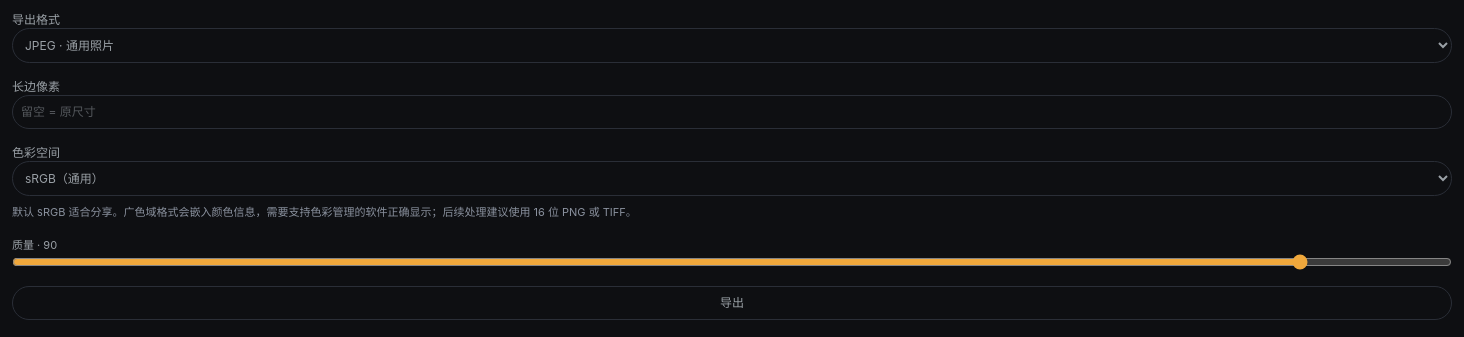
Scenario: selects lossless formats and hides JPEG quality for PNG and TIFF
Expected: the dropdown labelled "导出格式" shows "JPEG · 通用照片", [12,28,1452,63]
Select "Display P3（广色域屏幕）" in the dropdown labelled "色彩空间": (732, 178) [12,161,1452,196]
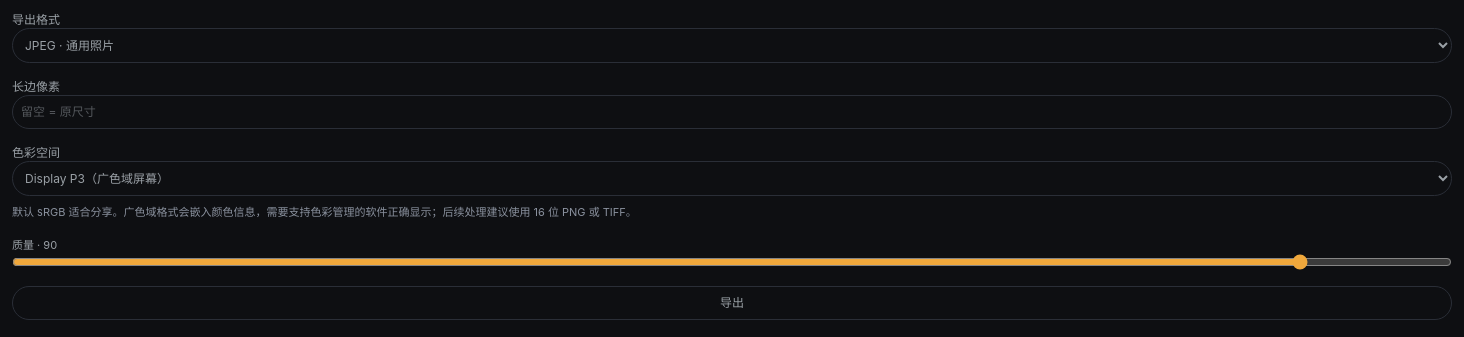
Expected: the slider is shown, [12,254,1452,270]
Select "PNG · 16 位无损" in the dropdown labelled "导出格式": (732, 46) [12,28,1452,63]
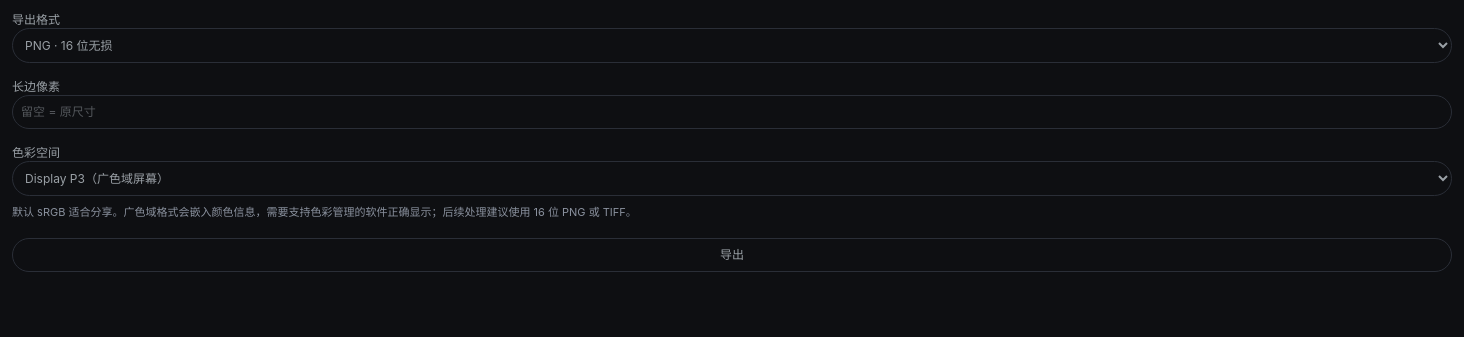
Expected: the slider is gone
Select "TIFF · 16 位无损" in the dropdown labelled "导出格式": (732, 46) [12,28,1452,63]
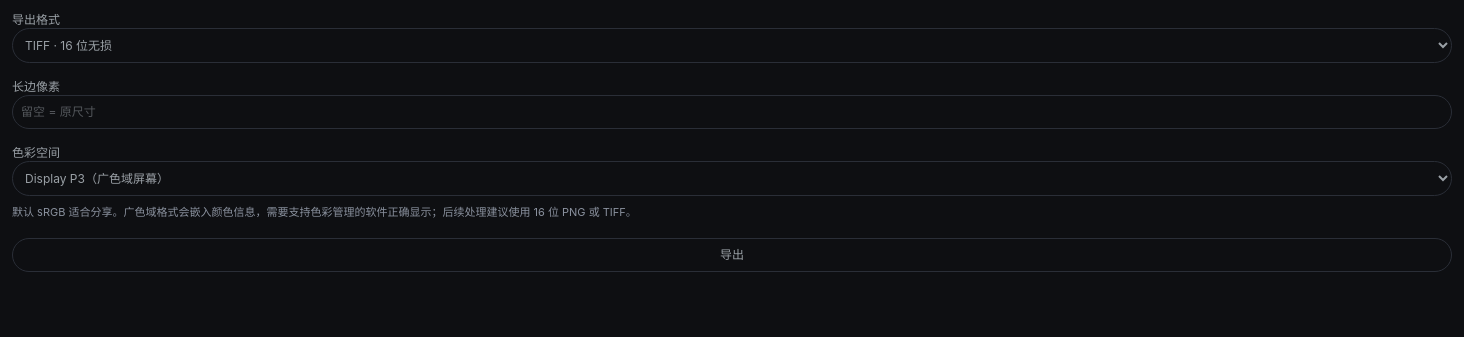
Select "可编辑文档（.pcraft）" in the dropdown labelled "导出格式": (732, 46) [12,28,1452,63]
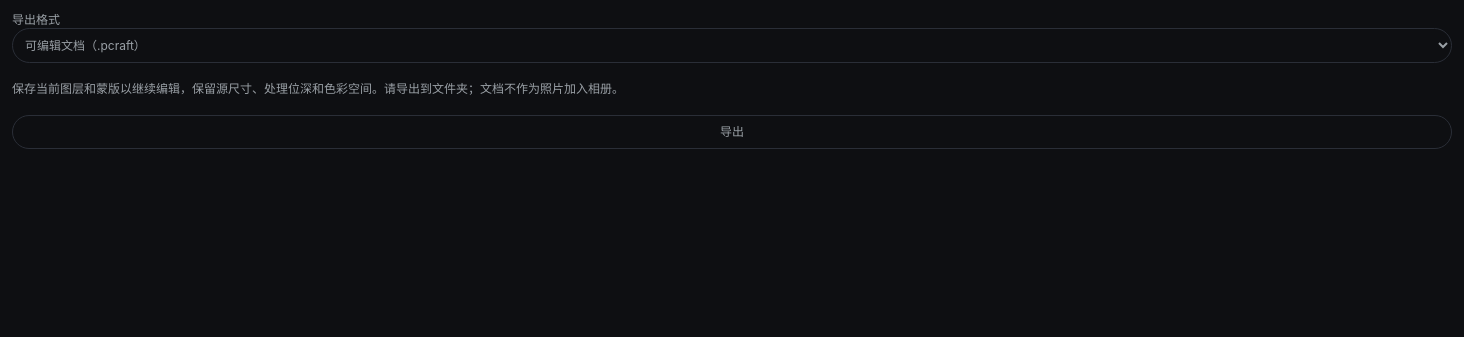
Expected: the text "保存当前图层和蒙版以继续编辑，保留源尺寸、处理位深和色彩空间。请导出到文件夹；文档不作为照片加入相册。" is shown, [12,81,624,96]
